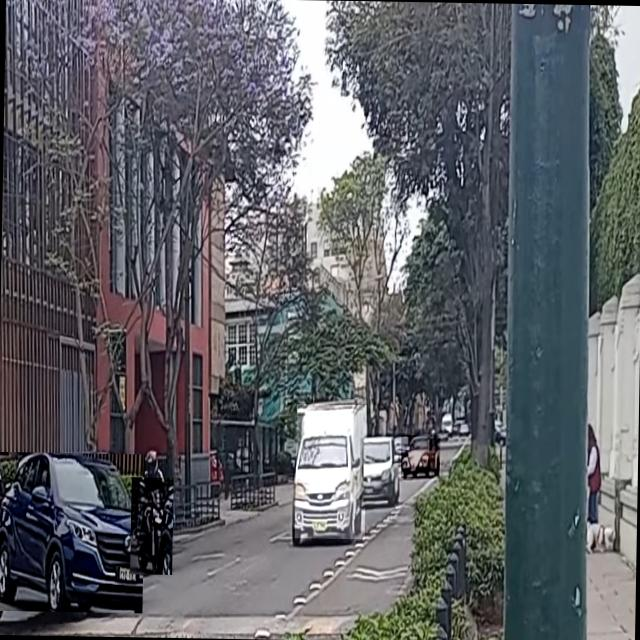car: (0, 451, 145, 613), (359, 438, 401, 508), (400, 434, 440, 478)
motorcycle: (130, 476, 173, 574)
truck: (295, 403, 367, 539)
